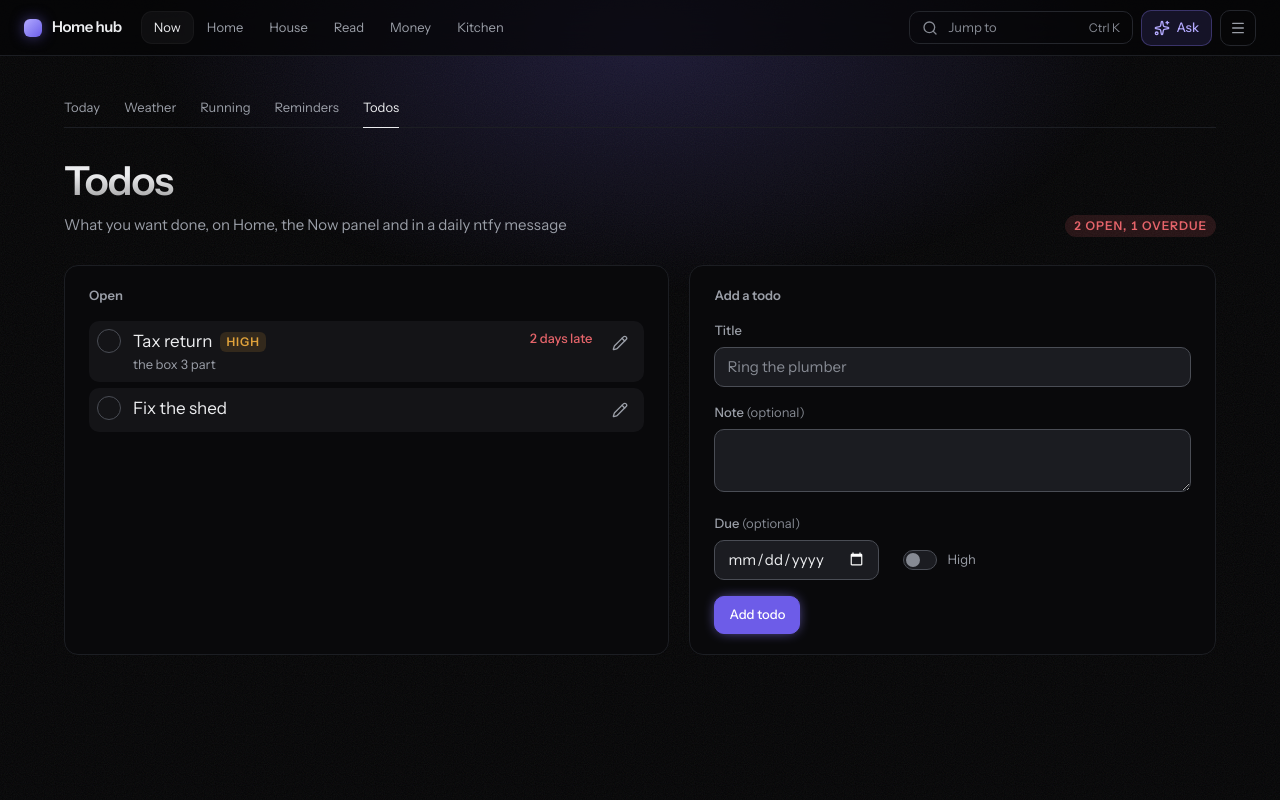
TodosPage › ticks a todo off and puts it back with Undo
Click the checkbox named "Fix the shed done": (109, 408) [97,396,121,420]
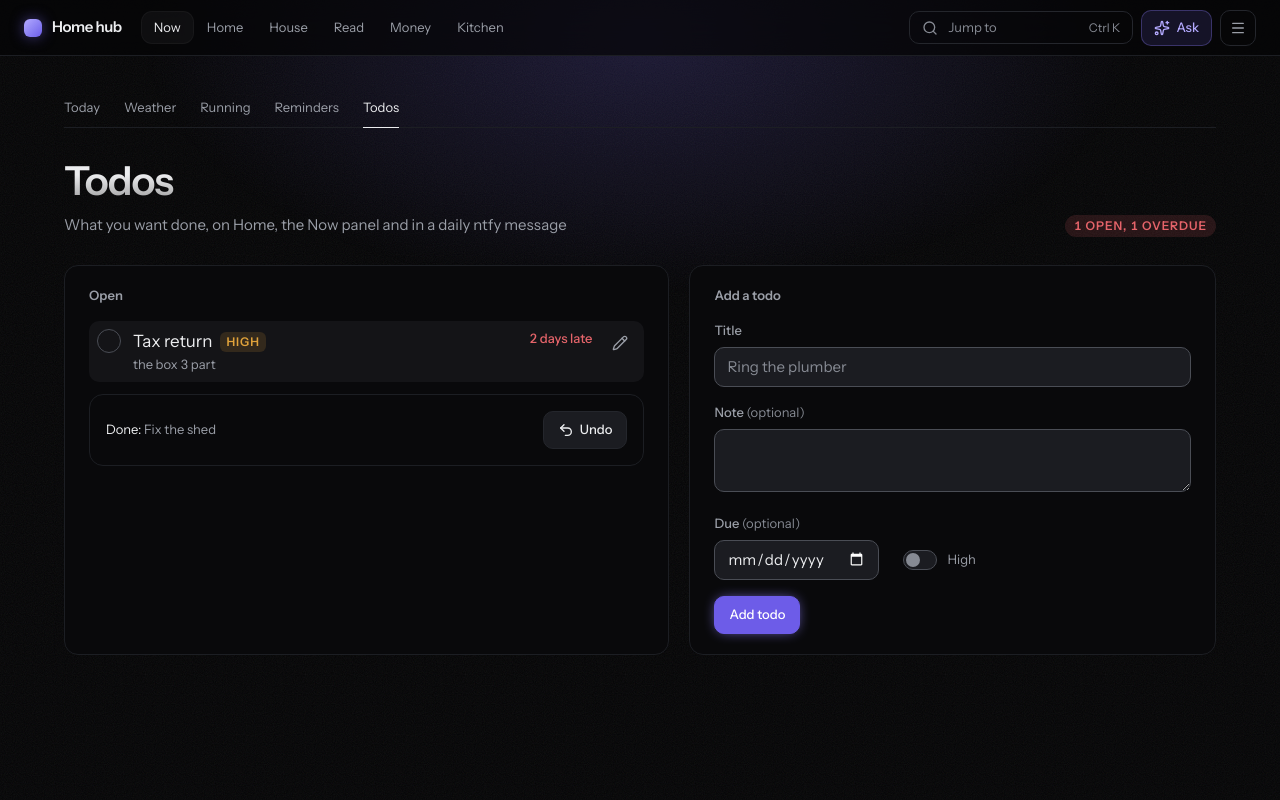
Expected: the message shows "Done: Fix the shed", [89,394,644,466]
Click the button "Undo": (585, 430) [543,411,628,448]
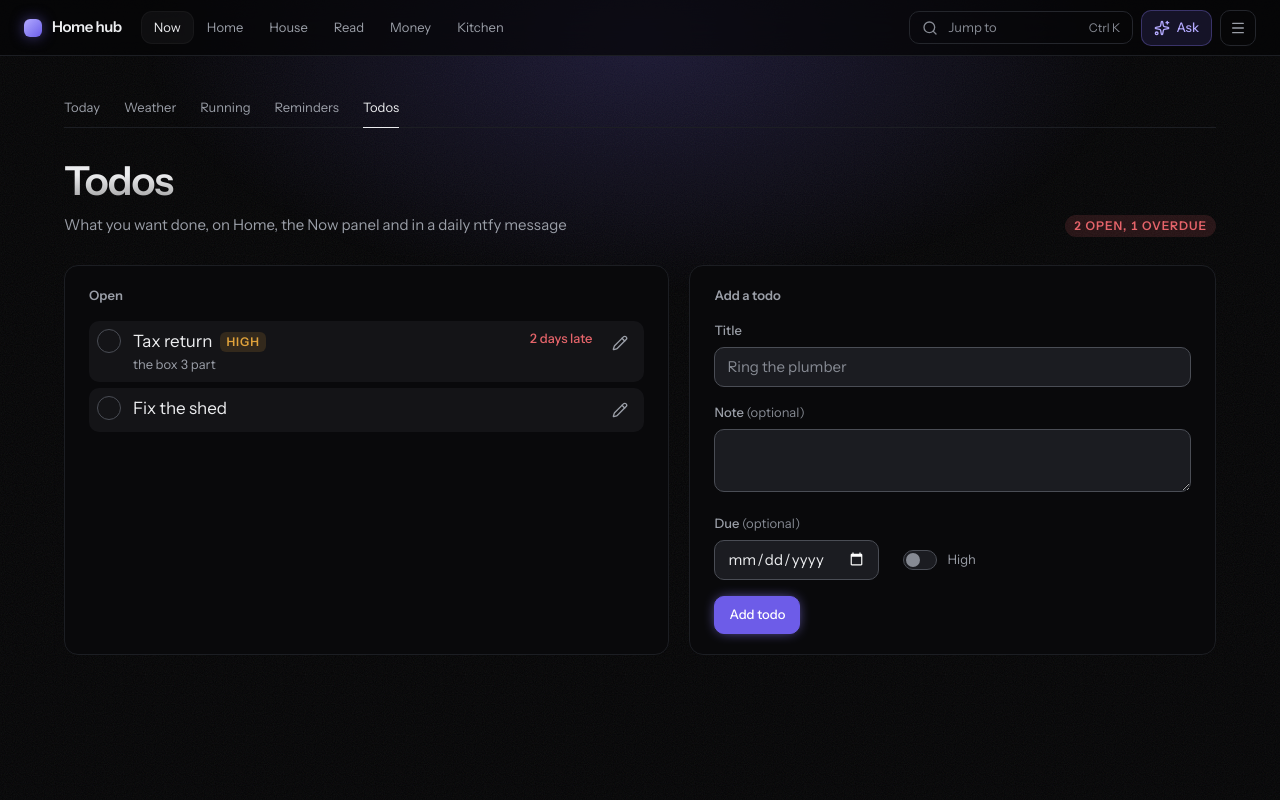
Expected: the checkbox named "Fix the shed done" is shown, [97,396,121,420]
Expected: the message "Done: Fix the shed Undo" is gone
